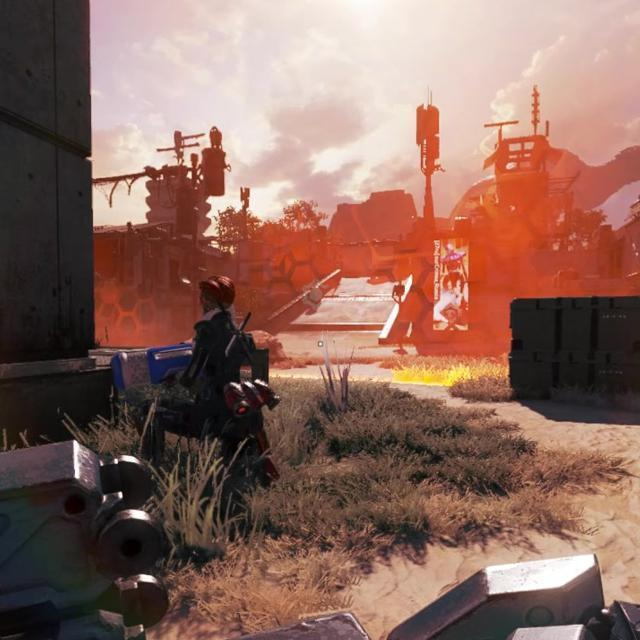avatar: (137, 274, 282, 482)
